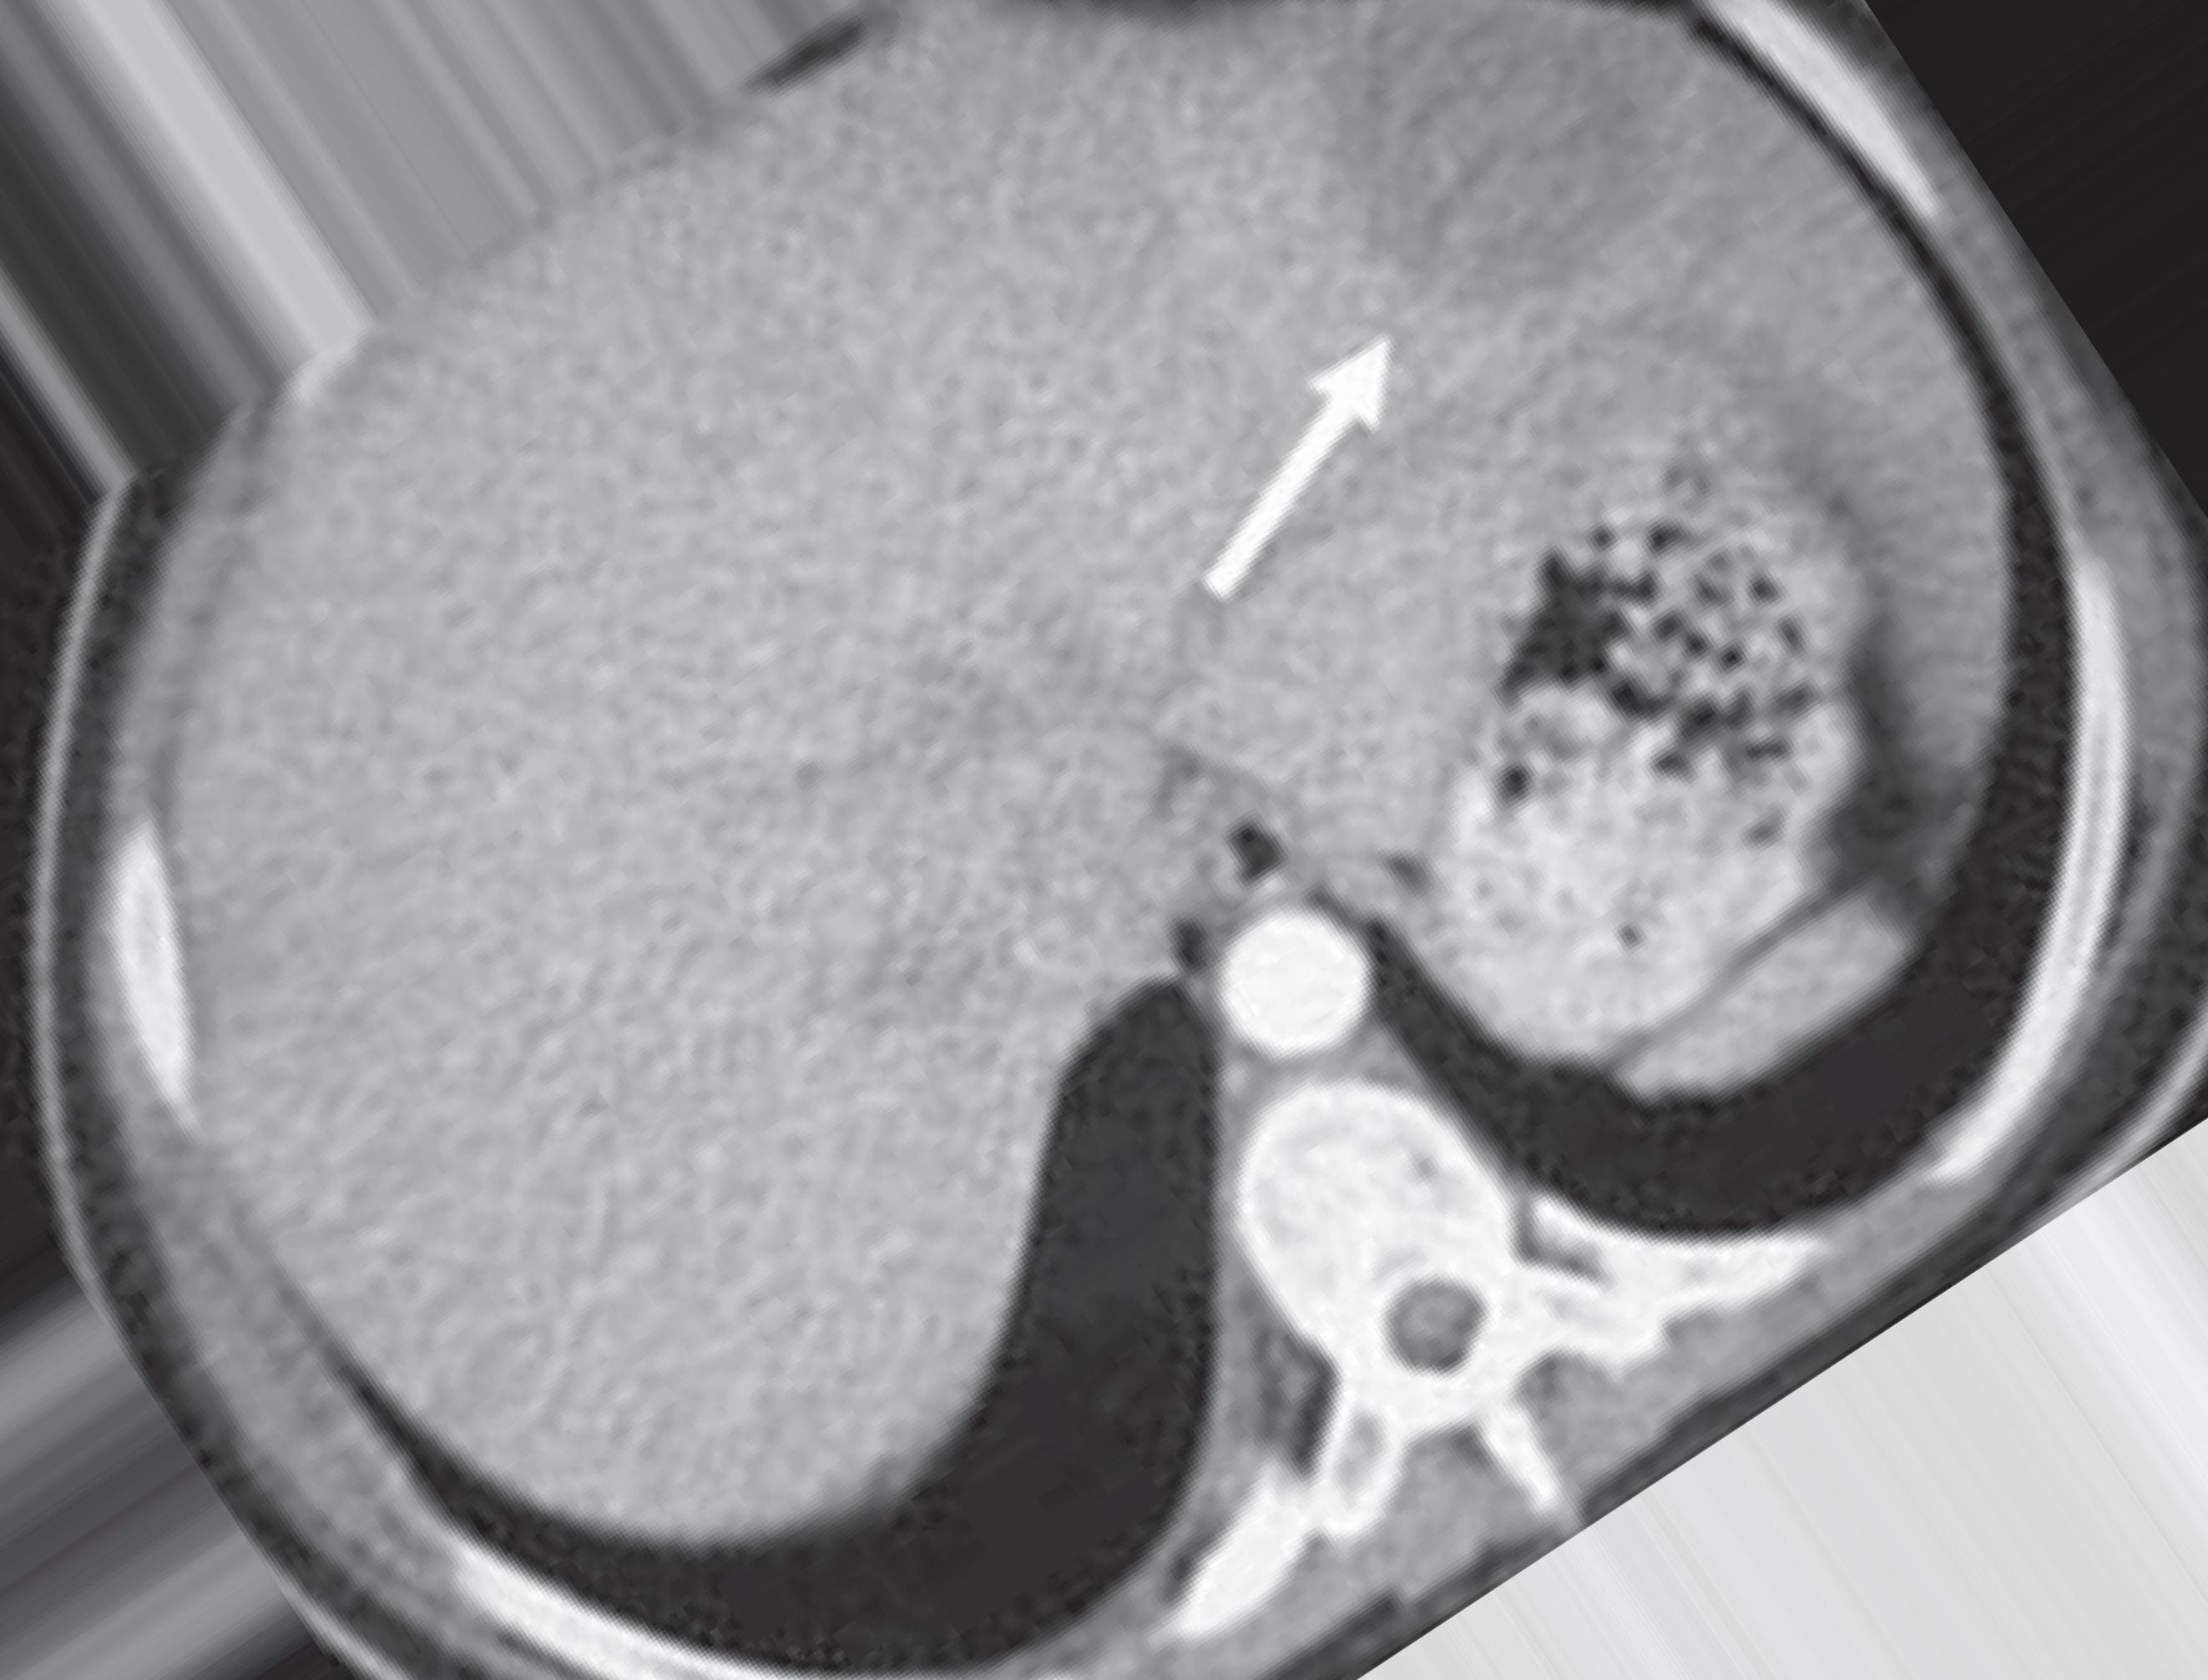anomaly: (1311, 19, 1721, 305)
